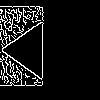S: (25, 24, 100, 81)
